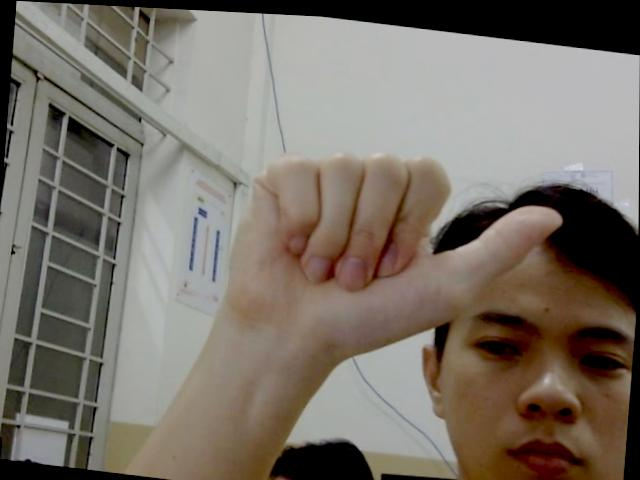A: (218, 128, 564, 365)
